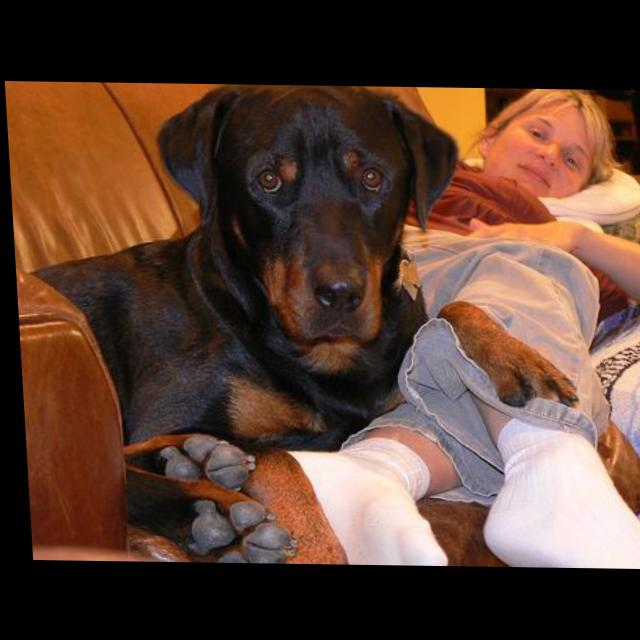face: (479, 98, 594, 197)
person: (259, 84, 640, 568)
rottweiler: (12, 82, 582, 567)
